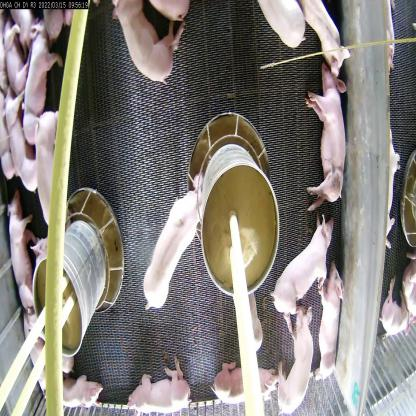Pig: (300, 65, 356, 216), (137, 192, 209, 306), (270, 223, 336, 324), (30, 104, 76, 236), (109, 0, 182, 81), (0, 78, 47, 200), (263, 309, 318, 411), (13, 0, 55, 120), (310, 263, 346, 380), (125, 367, 196, 415), (208, 356, 279, 400), (38, 371, 104, 415), (2, 205, 30, 303)
